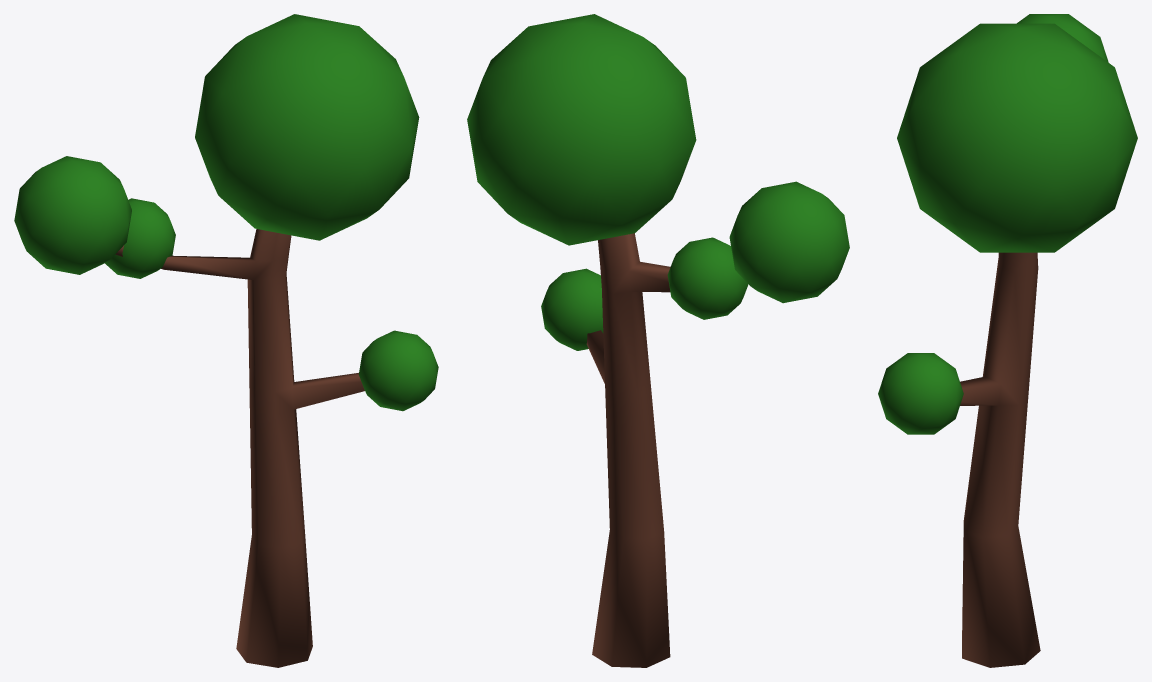
File: BigTree01.fbx
3 views of the same model, side by side, from view 1: azimuth 30°, elevation 25°; view 2: azimuth 150°, elevation 25°; view 3: azimuth 270°, elevation 25° (orthographic). The views are drawn at different scales.
Parts seen in each view (by area): view 1: Cylinder; view 2: Cylinder; view 3: Cylinder.
Part boxes in pixels (box(x1,y1,x2,y2)): Cylinder: box(14, 14, 438, 667); Cylinder: box(467, 14, 849, 667); Cylinder: box(878, 14, 1137, 667).
Size of the model in its own units: 606 by 977 by 358.
